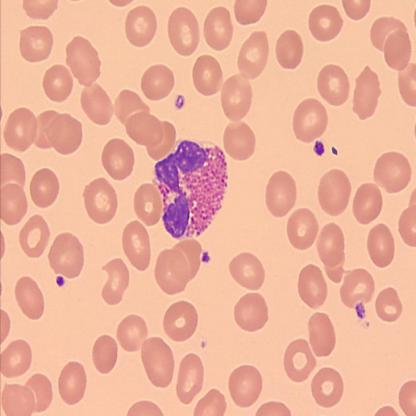Eosinophil: (154, 139, 228, 242)
